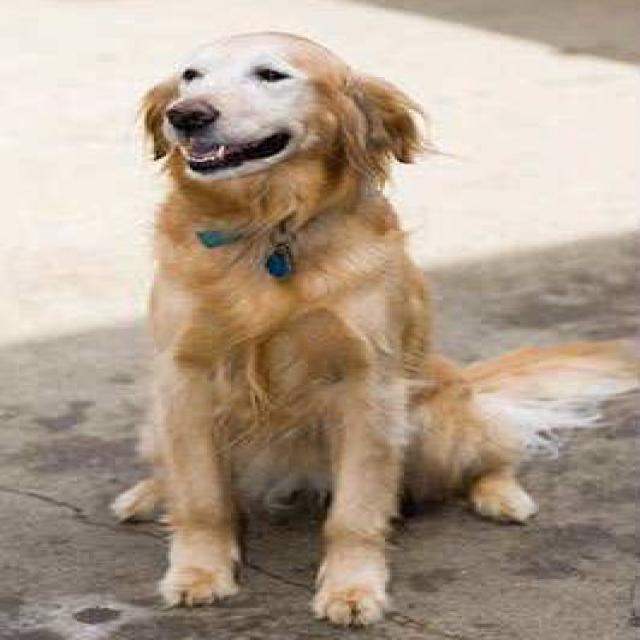dog: (108, 29, 638, 627)
